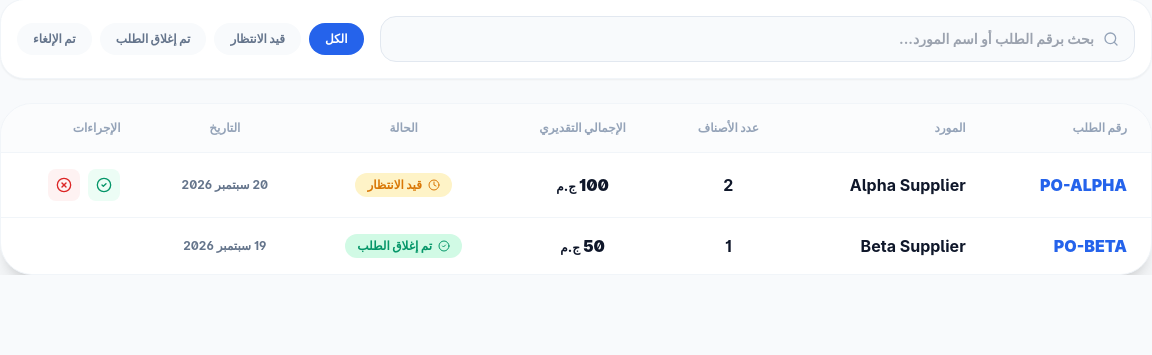
Test: purchase-orders list UI interactions › combines supplier/id search with status filters and renders the explicit empty state
Type "beta" into the field with placeholder "بحث برقم الطلب أو اسم المورد..." at (757, 39), box [380, 16, 1135, 62]
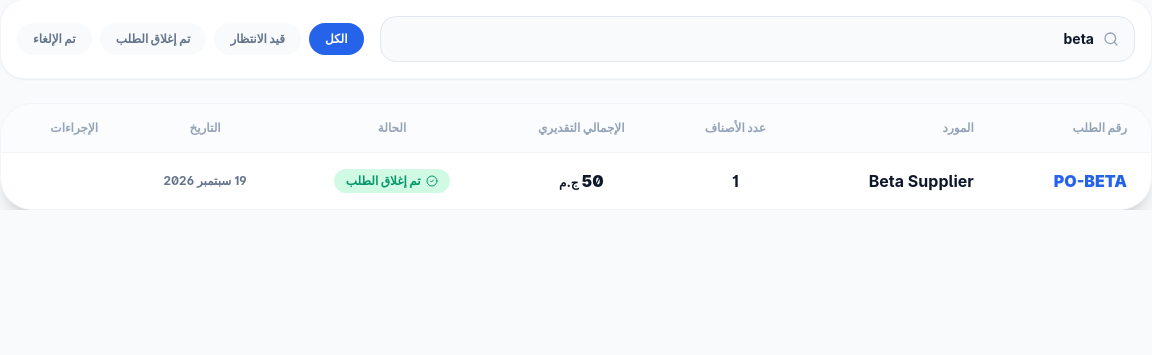
Expected: the text "PO-BETA" is shown, [1054, 171, 1127, 191]
Result: the text "PO-ALPHA" is gone
Clear the field with placeholder "بحث برقم الطلب أو اسم المورد..." at (757, 39), box [380, 16, 1135, 62]
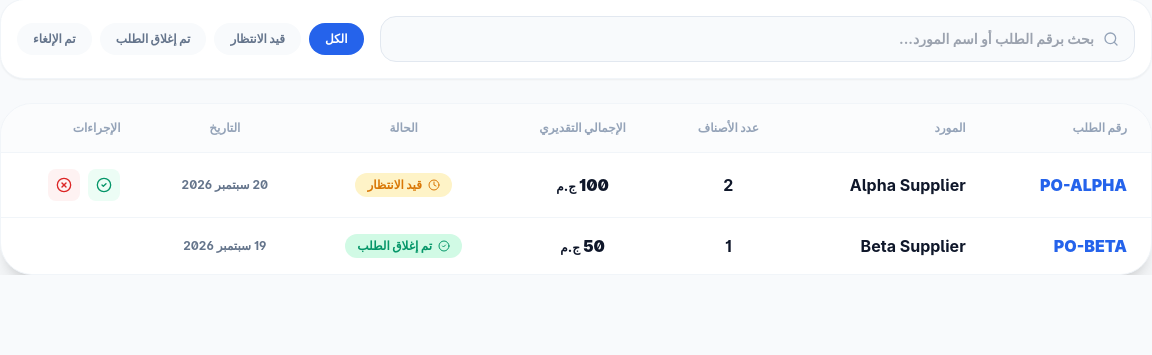
Click the button "قيد الانتظار" at (258, 39), box [214, 23, 301, 55]
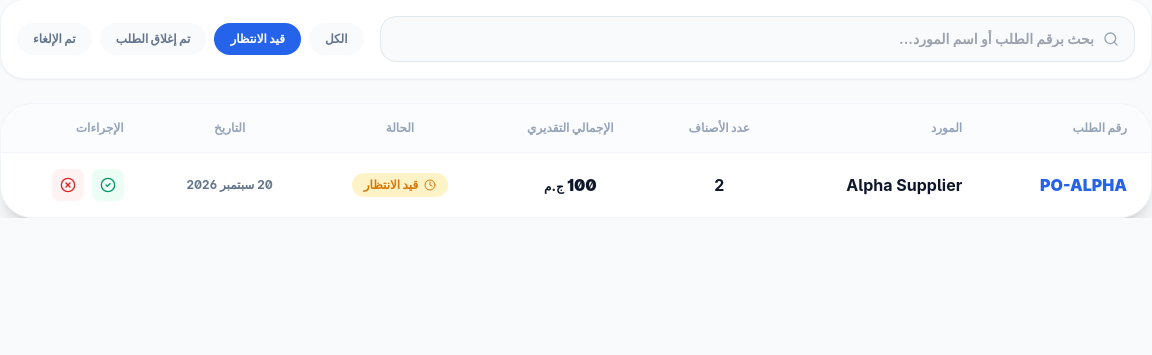
Result: the text "PO-ALPHA" is shown at [1040, 175, 1127, 195]
Result: the text "PO-BETA" is gone
Type "missing" into the field with placeholder "بحث برقم الطلب أو اسم المورد..." at (757, 39), box [380, 16, 1135, 62]
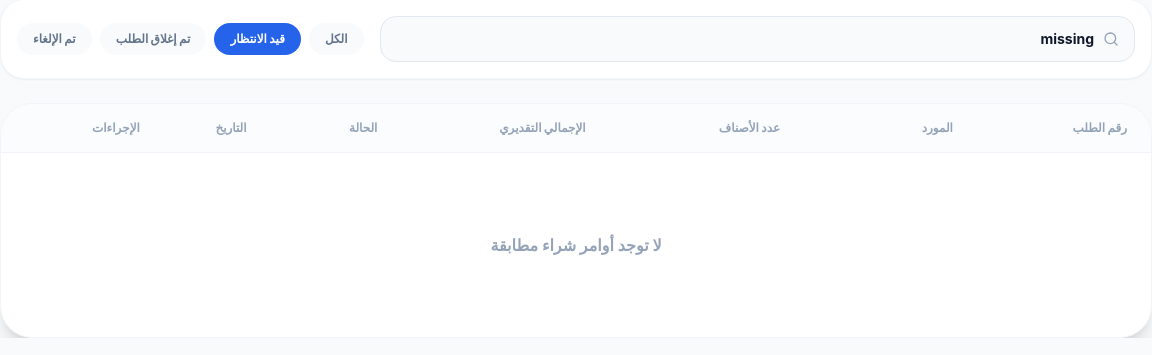
Result: the text "لا توجد أوامر شراء مطابقة" is shown at [1, 152, 1151, 337]
